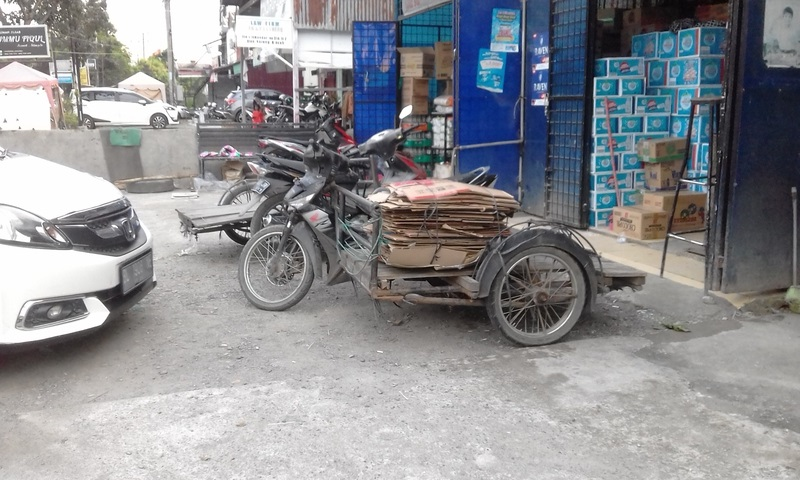becak barang: (233, 131, 652, 354)
car: (1, 126, 157, 360)
